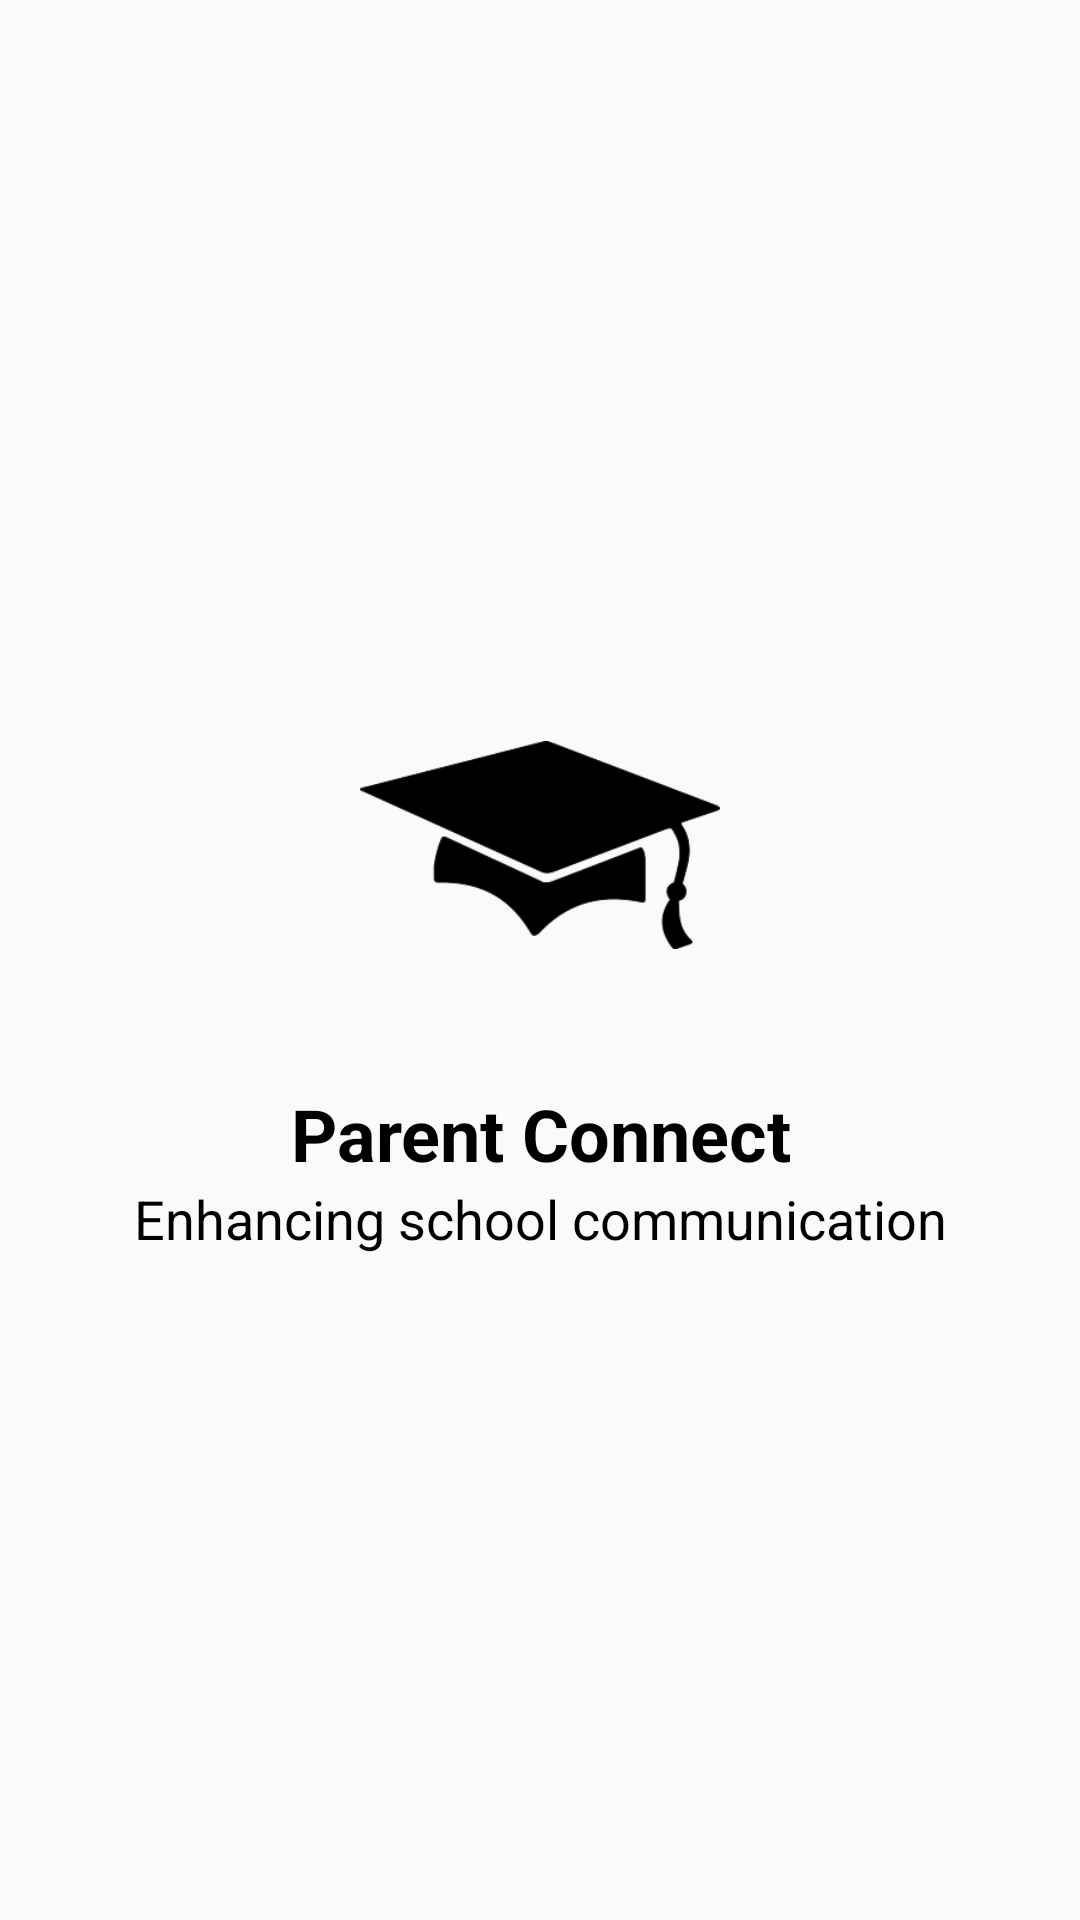

Screen size 1080 x 1920. Icon name, then its center in pixels as (x=x, y=y):
graduation cap: (x=540, y=845)
